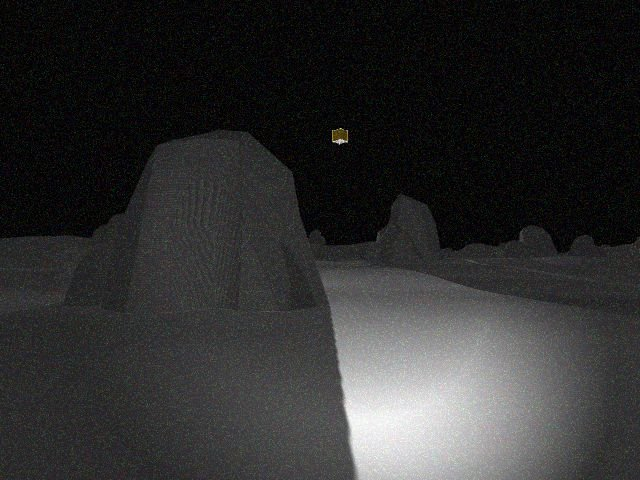cubesat: (328, 125, 352, 147)
